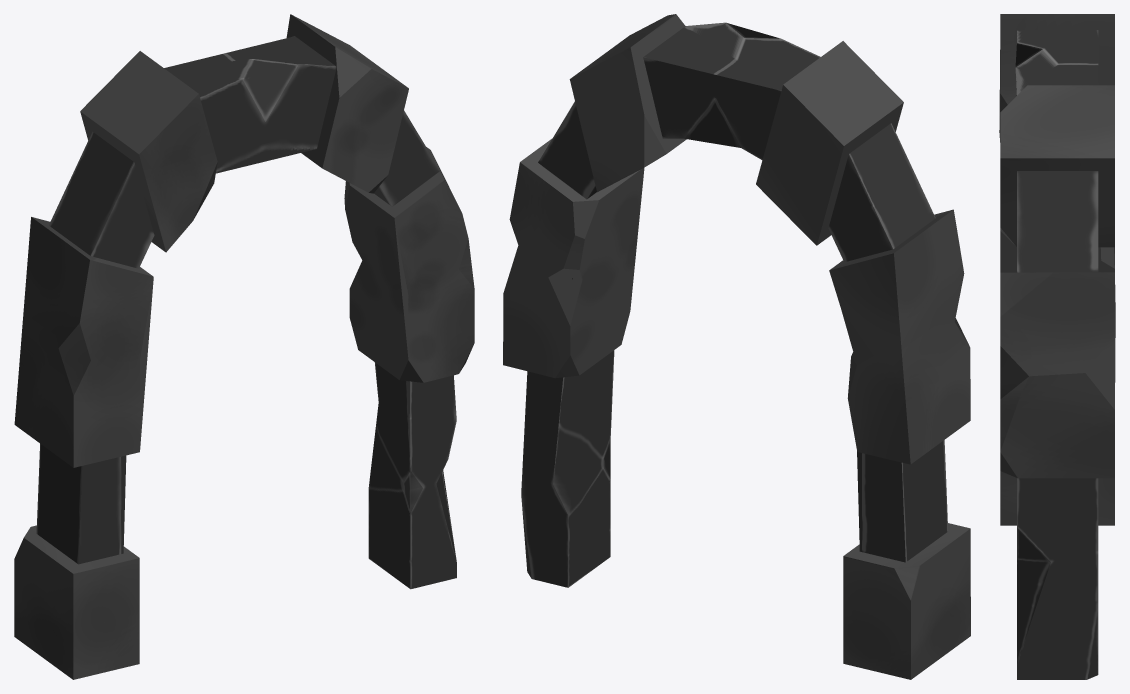
Rendered from Portal_LOD1.fbx.
The picture shows the model from 3 angles, left to right: view 1: azimuth 30°, elevation 25°; view 2: azimuth 150°, elevation 25°; view 3: azimuth 270°, elevation 25°; orthographic projection. The views are drawn at different scales.
Parts seen in each view (by area): view 1: Portal_LOD1; view 2: Portal_LOD1; view 3: Portal_LOD1.
Part boxes in pixels (x1,y1,x2,y2): Portal_LOD1: [14, 14, 474, 679]; Portal_LOD1: [503, 14, 970, 679]; Portal_LOD1: [999, 14, 1115, 679].
Bounding box in the file's own units: 2.82 × 3.67 × 0.7134.
2 materials, 2 textured.
